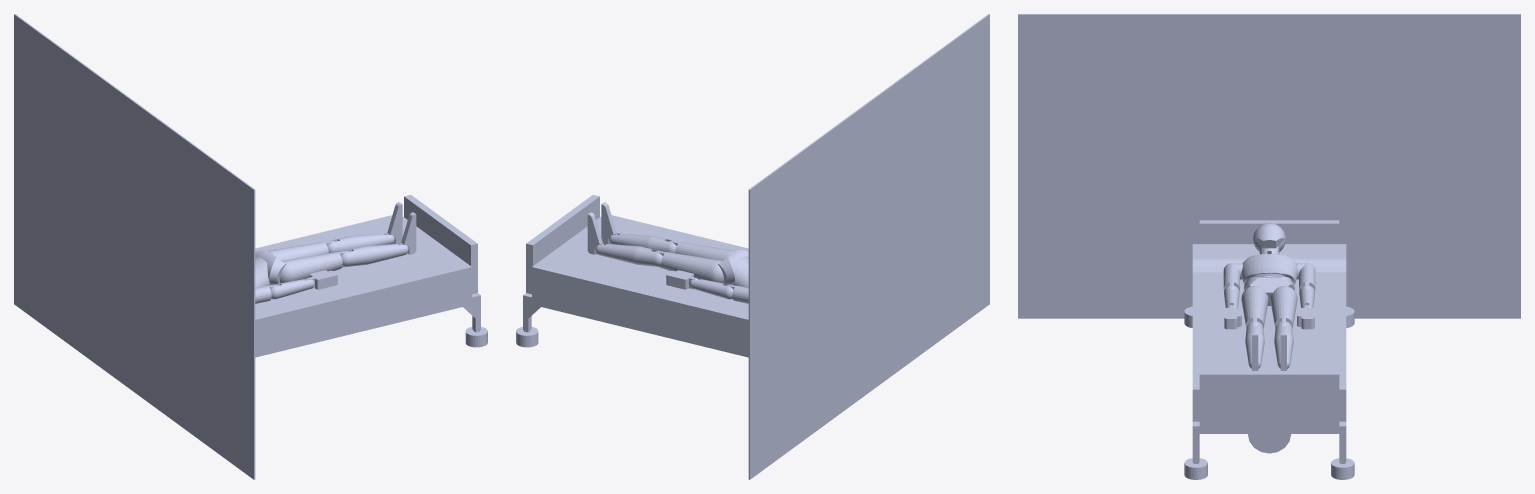
File: bed_and_body_v3.dae
The picture shows the model from 3 angles, left to right: view 1: azimuth 30°, elevation 25°; view 2: azimuth 150°, elevation 25°; view 3: azimuth 270°, elevation 25°; orthographic projection. The views are drawn at different scales.
Visible parts, largest first — view 1: wall_link, leg_rest_lower_link, bed_frame_link, leg_rest_upper_link, head_rest_link, quad_right_link, calf_right_link, calf_left_link, quad_left_link, forearm_right_link, lower_body_link; view 2: wall_link, leg_rest_lower_link, bed_frame_link, leg_rest_upper_link, head_rest_link, quad_left_link, calf_left_link, calf_right_link, quad_right_link, forearm_left_link, lower_body_link; view 3: wall_link, bed_frame_link, leg_rest_lower_link, head_rest_link, leg_rest_upper_link, base_link, upper_body_link, quad_left_link, quad_right_link, head_link, lower_body_link, calf_left_link (+1 smaller).
Part boxes in pixels (left/top/right/bottom): wall_link: left=14, top=14, right=255, bottom=479; leg_rest_lower_link: left=303, top=215, right=471, bottom=320; bed_frame_link: left=255, top=195, right=480, bottom=357; leg_rest_upper_link: left=255, top=237, right=376, bottom=333; head_rest_link: left=255, top=300, right=286, bottom=350; quad_right_link: left=280, top=251, right=348, bottom=283; calf_right_link: left=341, top=243, right=408, bottom=266; calf_left_link: left=327, top=233, right=394, bottom=253; quad_left_link: left=268, top=240, right=334, bottom=260; forearm_right_link: left=270, top=278, right=314, bottom=299; lower_body_link: left=255, top=249, right=285, bottom=284; wall_link: left=748, top=14, right=989, bottom=479; leg_rest_lower_link: left=532, top=215, right=700, bottom=320; bed_frame_link: left=523, top=195, right=748, bottom=357; leg_rest_upper_link: left=627, top=237, right=748, bottom=333; head_rest_link: left=717, top=300, right=748, bottom=350; quad_left_link: left=655, top=250, right=723, bottom=283; calf_left_link: left=595, top=243, right=662, bottom=266; calf_right_link: left=609, top=233, right=676, bottom=253; quad_right_link: left=669, top=240, right=735, bottom=260; forearm_left_link: left=689, top=278, right=733, bottom=299; lower_body_link: left=718, top=249, right=748, bottom=284; wall_link: left=1018, top=14, right=1520, bottom=318; bed_frame_link: left=1192, top=220, right=1346, bottom=462; leg_rest_lower_link: left=1192, top=341, right=1346, bottom=421; head_rest_link: left=1192, top=244, right=1346, bottom=294; leg_rest_upper_link: left=1192, top=314, right=1346, bottom=340; base_link: left=1184, top=306, right=1354, bottom=479; upper_body_link: left=1241, top=254, right=1297, bottom=284; quad_left_link: left=1270, top=286, right=1297, bottom=328; quad_right_link: left=1241, top=286, right=1268, bottom=328; head_link: left=1253, top=223, right=1285, bottom=251; lower_body_link: left=1245, top=277, right=1293, bottom=305; calf_left_link: left=1274, top=321, right=1293, bottom=368.
Bounding box in the file's own units: 2.29 × 3 × 2.
